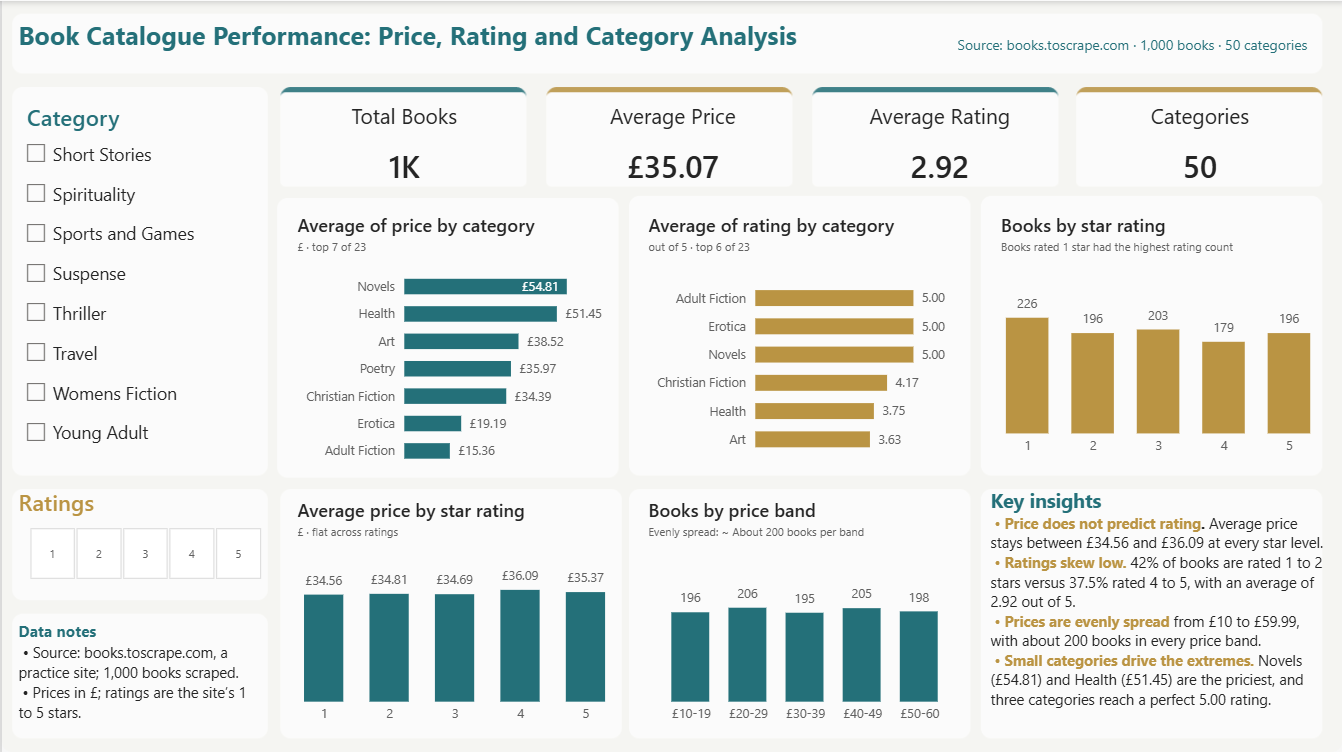

What the dashboard file says about the page in this screenshot:
{"tool":"powerbi","page":{"name":"Dashboard","canvas":[1280,720],"ordinal":2},"visuals":[{"type":"slicer","fields":{"Values":["books_clean.category"]},"box":[16,96,224,352],"z":0},{"type":"cardVisual","title":"Total Books","fields":{"Data":["CountNonNull(books_clean.title)"]},"box":[272,96,224,80],"z":1000},{"type":"cardVisual","title":"Average Price","fields":{"Data":["Avg(books_clean.price)"]},"box":[528,96,224,80],"z":2000},{"type":"cardVisual","title":"Average Rating","fields":{"Data":["Avg(books_clean.rating)"]},"box":[784,96,224,80],"z":3000},{"type":"cardVisual","title":"Categories","fields":{"Data":["Count(books_clean.category)"]},"box":[1040,96,208,80],"z":4000},{"type":"slicer","fields":{"Values":["books_clean.rating"]},"box":[0,496,272,64],"z":5000},{"type":"textbox","box":[16,464,256,32],"z":6000},{"type":"clusteredBarChart","fields":{"Category":["books_clean.category"],"Y":["Avg(books_clean.rating)"]},"box":[608,192,304,256],"z":7000},{"type":"clusteredBarChart","fields":{"Category":["books_clean.category"],"Y":["Avg(books_clean.price)"]},"box":[272,192,320,256],"z":8000},{"type":"columnChart","title":"Books by star rating","fields":{"Category":["books_clean.rating"],"Y":["CountNonNull(books_clean.title)"]},"box":[944,192,320,256],"z":9000},{"type":"columnChart","title":"Books by price band","fields":{"Category":["books_clean.Price Band"],"Y":["CountNonNull(books_clean.title)"]},"box":[608,464,320,240],"z":10000},{"type":"columnChart","title":"Average price by star rating","fields":{"Category":["books_clean.rating"],"Y":["Avg(books_clean.price)"]},"box":[272,464,320,240],"z":11000},{"type":"textbox","box":[912,32,352,32],"z":12000},{"type":"textbox","box":[16,16,816,48],"z":13000},{"type":"textbox","box":[16,592,224,112],"z":14000},{"type":"textbox","box":[944,464,320,240],"z":15000}]}

Visuals, with their boxes in screenshot pixels (x1, y1, x2, y2), scaled from the page's 1280x720 canvas onto the 1342x752 screenshot:
slicer - books_clean.category: detection(17, 100, 252, 468)
"Total Books" cardVisual: detection(285, 100, 520, 184)
"Average Price" cardVisual: detection(554, 100, 788, 184)
"Average Rating" cardVisual: detection(822, 100, 1057, 184)
"Categories" cardVisual: detection(1090, 100, 1308, 184)
slicer - books_clean.rating: detection(0, 518, 285, 585)
textbox: detection(17, 485, 285, 518)
clusteredBarChart - books_clean.category x Avg(books_clean.rating): detection(637, 201, 956, 468)
clusteredBarChart - books_clean.category x Avg(books_clean.price): detection(285, 201, 621, 468)
"Books by star rating" columnChart: detection(990, 201, 1325, 468)
"Books by price band" columnChart: detection(637, 485, 973, 735)
"Average price by star rating" columnChart: detection(285, 485, 621, 735)
textbox: detection(956, 33, 1325, 67)
textbox: detection(17, 17, 872, 67)
textbox: detection(17, 618, 252, 735)
textbox: detection(990, 485, 1325, 735)
